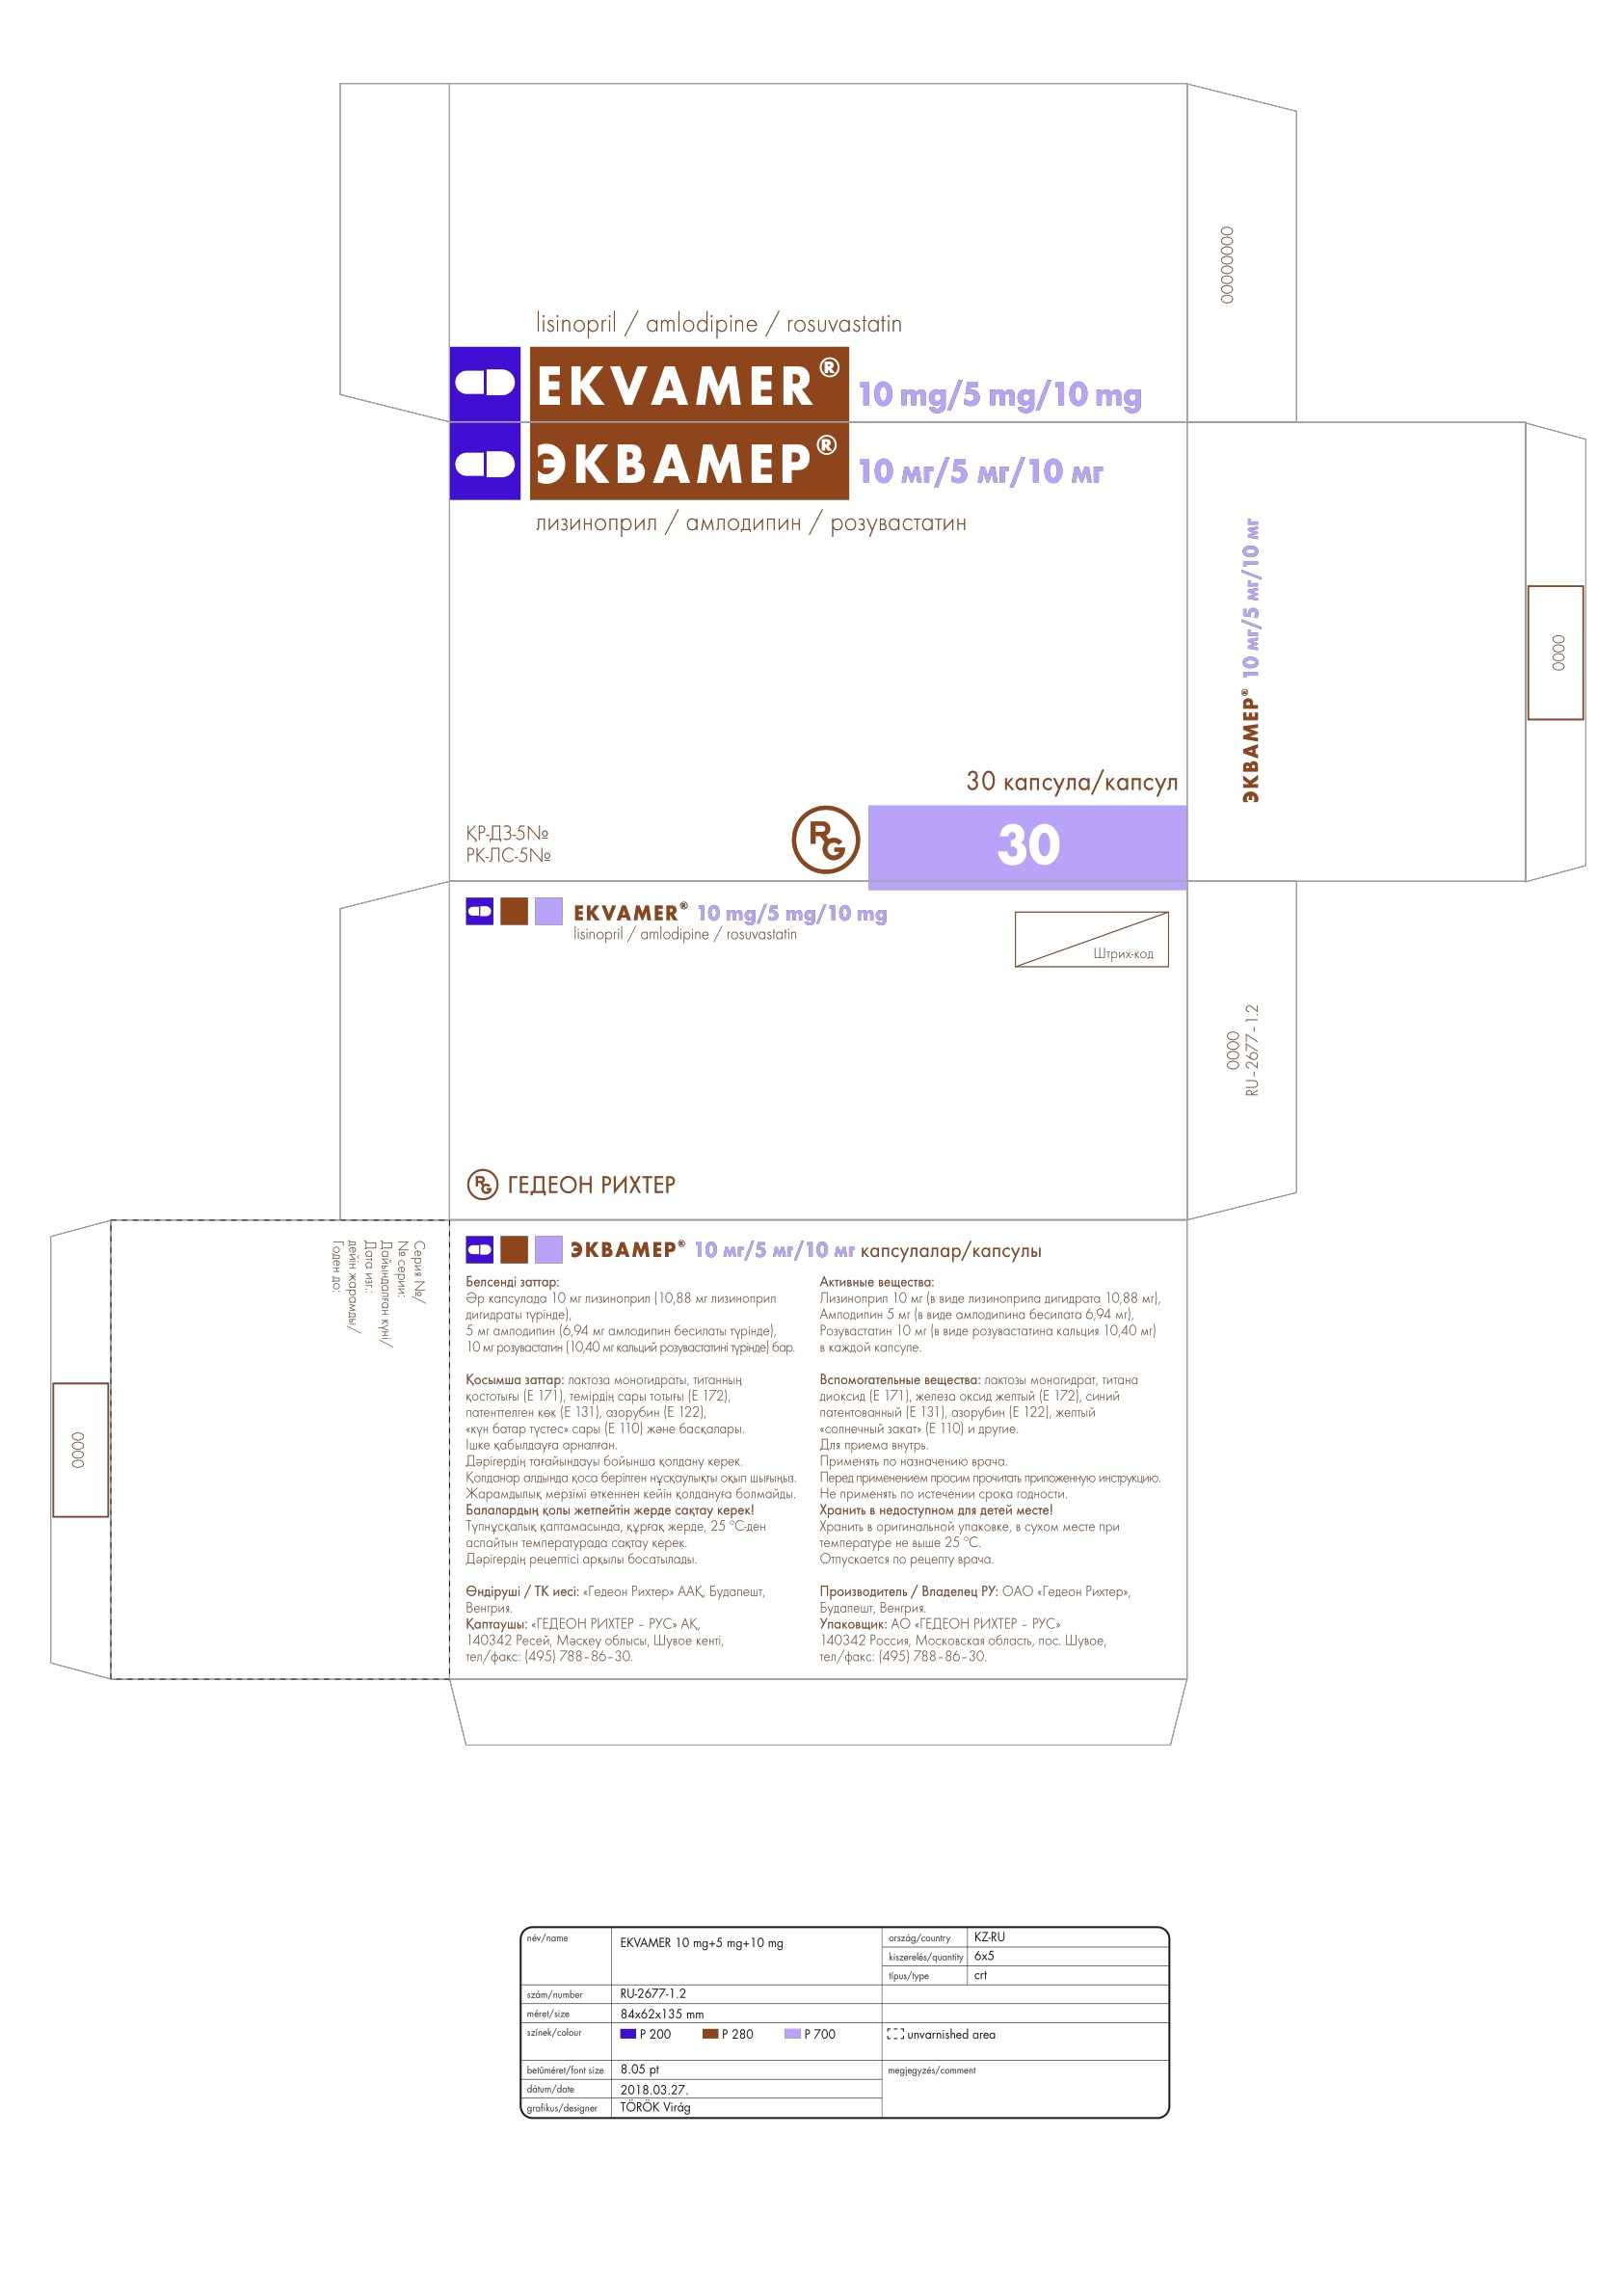merged_cells: (518, 1924, 1172, 2120)
